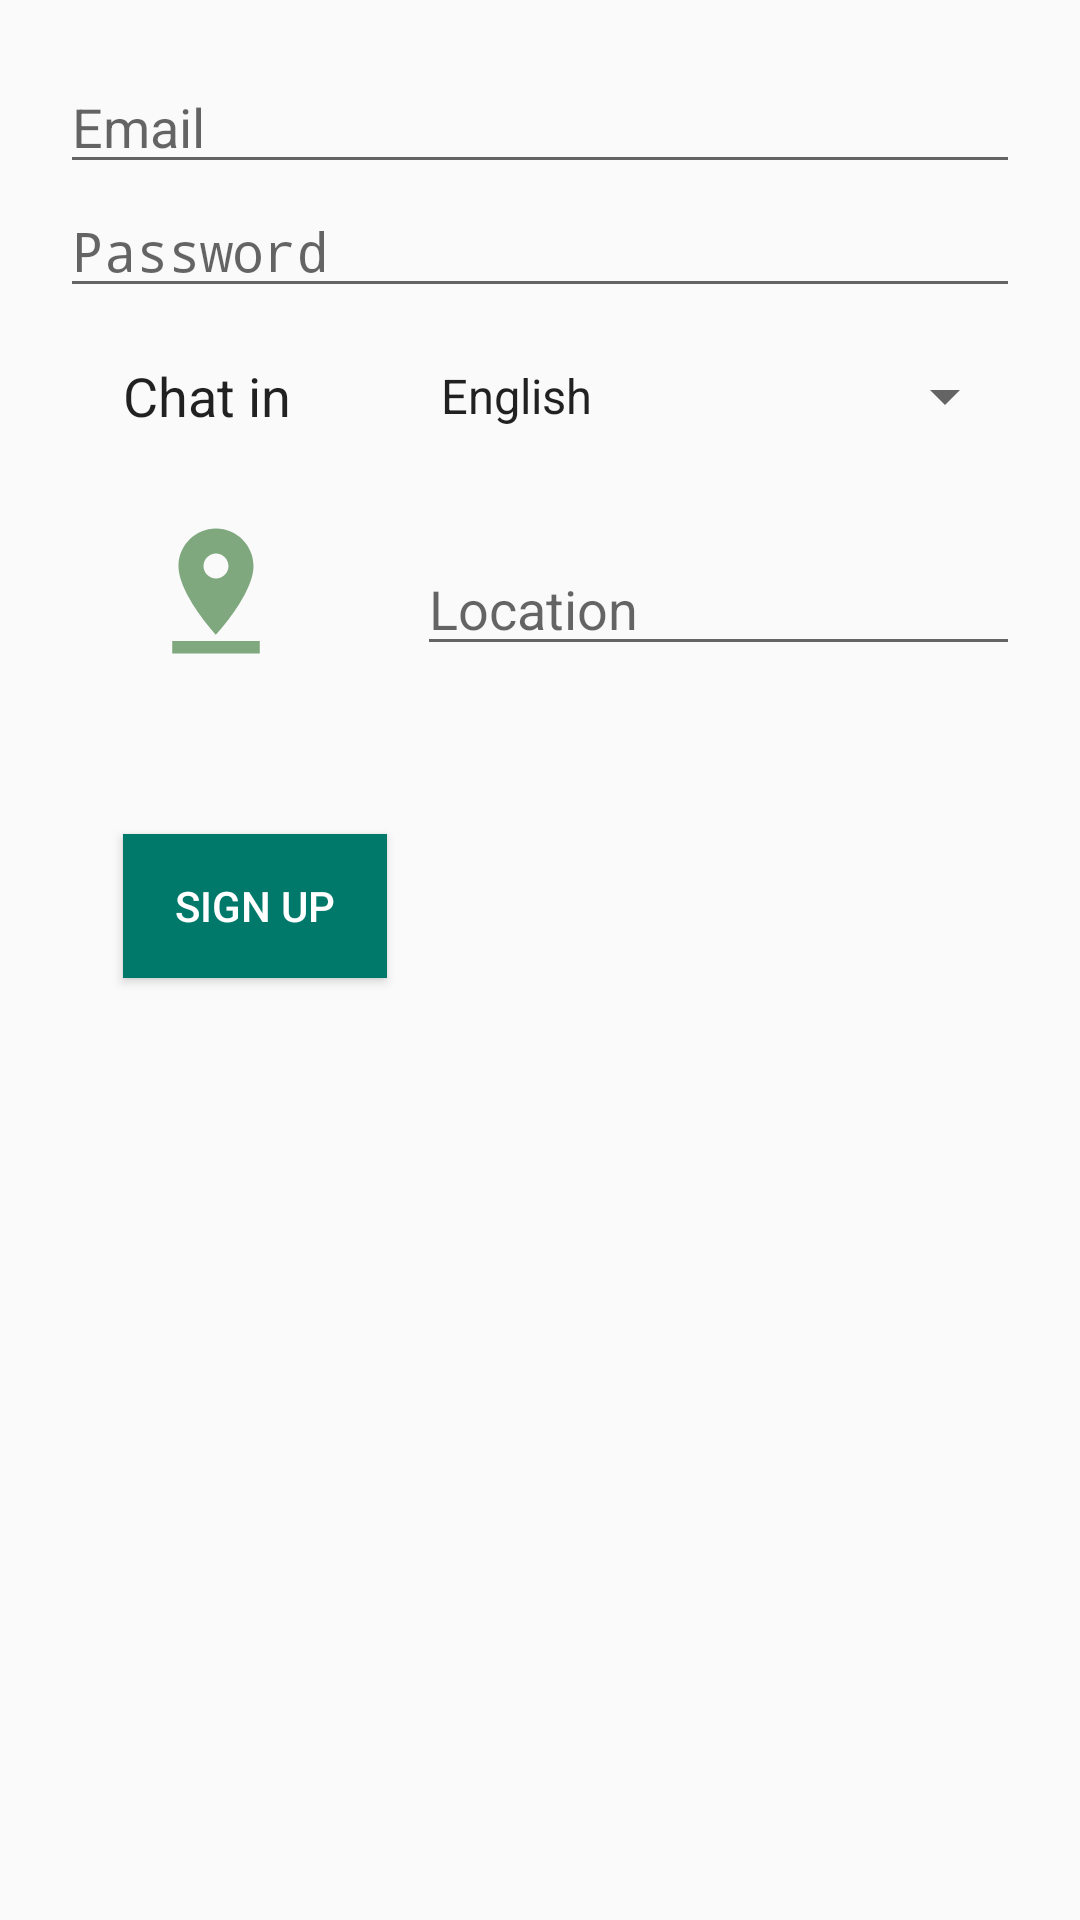

Icon bounding boxes for this 1080px x 1920px phone screenshot, format (x1=x1, y1=y1, x2=x2, y2=y2):
pin drop: (x1=172, y1=528, x2=260, y2=654)
